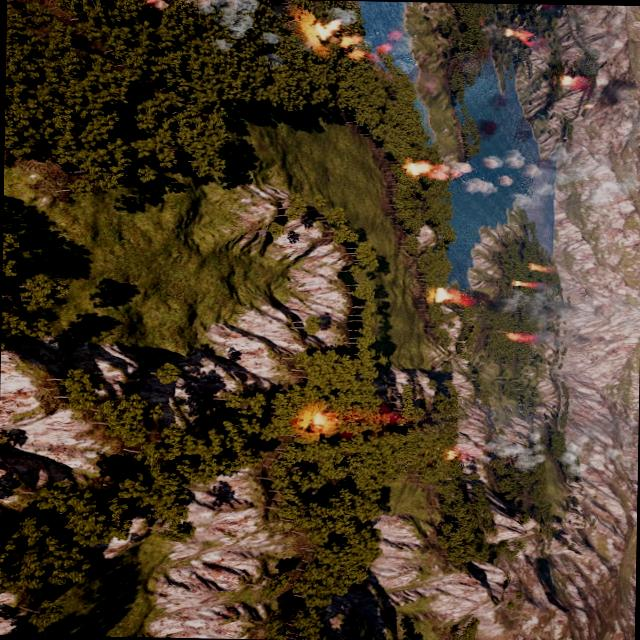fire: (297, 409, 343, 434), (314, 17, 342, 44), (552, 71, 588, 92), (435, 288, 469, 306), (502, 28, 534, 46), (404, 158, 432, 178), (507, 280, 535, 290), (504, 332, 530, 342), (526, 263, 548, 273)
smoke: (468, 284, 582, 348), (441, 151, 568, 204), (190, 0, 273, 51), (336, 8, 406, 63), (481, 415, 548, 469)
